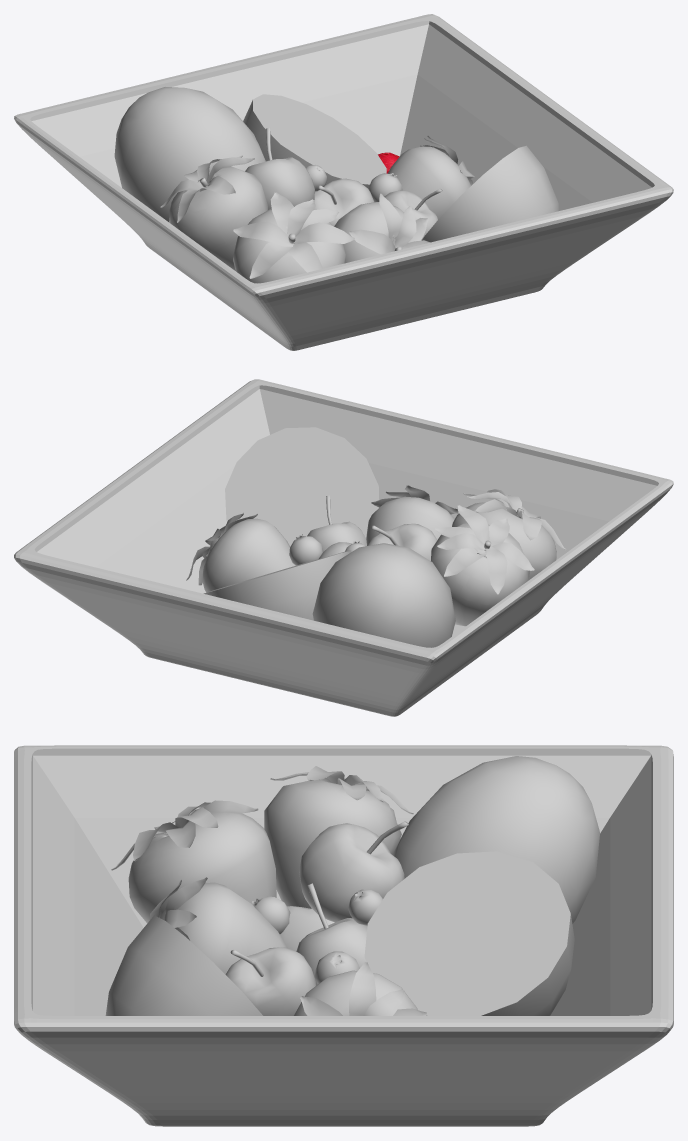
Rendered from berries.fbx.
3 views of the same model, one above another, from view 1: azimuth 30°, elevation 25°; view 2: azimuth 150°, elevation 25°; view 3: azimuth 270°, elevation 25° (orthographic). The views are drawn at different scales.
Visible parts, largest first — view 1: berry bowl (interior), berry bowl (exterior), Kiwi, Half Kiwi Skin 2, Half Kiwi 1, Strawberry.002, Strawberry_stem, Strawberry.003, Strawberry, Strawberry_stem.001, cherry.001, Strawberry_stem.002 (+5 smaller); view 2: berry bowl (interior), berry bowl (exterior), Half Kiwi 2, Kiwi, Strawberry.003, Half Kiwi Skin 1, Strawberry_stem.002, Strawberry.002, Strawberry.001, Strawberry, Strawberry_stem, cherry.001 (+4 smaller); view 3: berry bowl (exterior), berry bowl (interior), Half Kiwi 1, Kiwi, Half Kiwi Skin 2, Strawberry, Strawberry.002, cherry.001, Strawberry.001, cherry.003, Strawberry_stem.003, Strawberry_stem (+9 smaller).
Part boxes in pixels (x1,y1,x2,y2): berry bowl (interior): (30, 21, 654, 210); berry bowl (exterior): (14, 14, 673, 350); Kiwi: (114, 87, 265, 221); Half Kiwi Skin 2: (422, 145, 558, 242); Half Kiwi 1: (253, 94, 386, 184); Strawberry.002: (169, 166, 267, 270); Strawberry_stem: (233, 192, 354, 278); Strawberry.003: (388, 146, 470, 219); Strawberry: (233, 209, 345, 283); Strawberry_stem.001: (349, 193, 430, 254); cherry.001: (245, 157, 314, 209); Strawberry_stem.002: (160, 155, 254, 222); berry bowl (interior): (34, 385, 658, 636); berry bowl (exterior): (14, 379, 673, 716); Half Kiwi 2: (225, 427, 378, 546); Kiwi: (312, 543, 455, 647); Strawberry.003: (202, 518, 295, 592); Half Kiwi Skin 1: (204, 551, 351, 620); Strawberry_stem.002: (435, 505, 534, 594); Strawberry.002: (431, 523, 529, 626); Strawberry.001: (366, 496, 454, 545); Strawberry: (452, 502, 556, 579); Strawberry_stem: (463, 489, 565, 550); cherry.001: (367, 523, 437, 560); berry bowl (exterior): (14, 745, 673, 1126); berry bowl (interior): (31, 748, 652, 1015); Half Kiwi 1: (364, 851, 570, 1015); Kiwi: (393, 756, 599, 923); Half Kiwi Skin 2: (105, 915, 262, 1015); Strawberry: (128, 811, 276, 923); Strawberry.002: (264, 780, 401, 908); cherry.001: (299, 823, 404, 922); Strawberry.001: (160, 882, 287, 974); cherry.003: (225, 947, 316, 1015); Strawberry_stem.003: (300, 962, 426, 1015); Strawberry_stem: (111, 800, 258, 870).
Size of the model in its own units: 0.7824 by 0.2733 by 0.7791.
